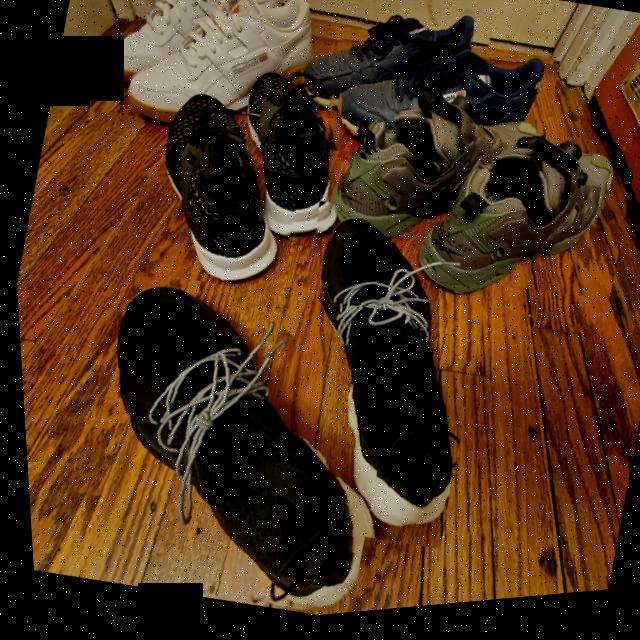shoe: (35, 248, 416, 638), (238, 194, 510, 569), (110, 66, 326, 318), (406, 111, 640, 330), (313, 19, 563, 207), (79, 0, 353, 170), (322, 91, 543, 262), (272, 0, 502, 163), (204, 48, 375, 266)
